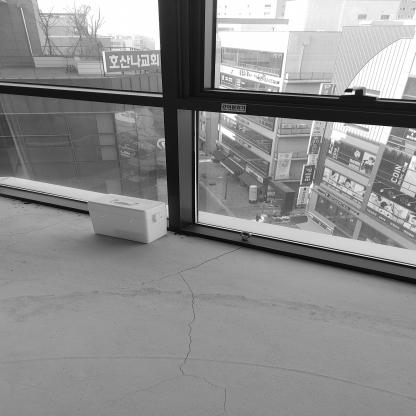DDL: (90, 194, 168, 243)
